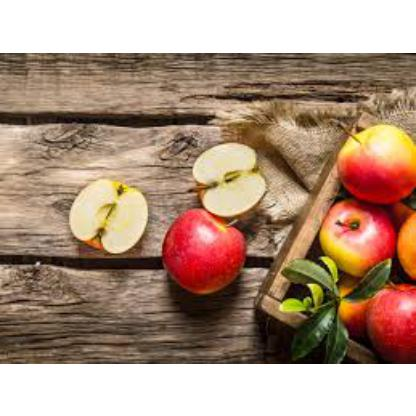apple: (66, 178, 156, 252), (170, 208, 248, 282), (191, 142, 266, 214), (336, 121, 414, 190), (315, 197, 393, 266), (360, 281, 414, 353), (318, 274, 375, 326)
